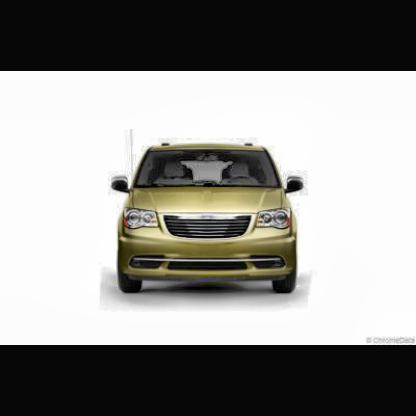Chrysler Town and Country Minivan 2012: (113, 145, 306, 295)
